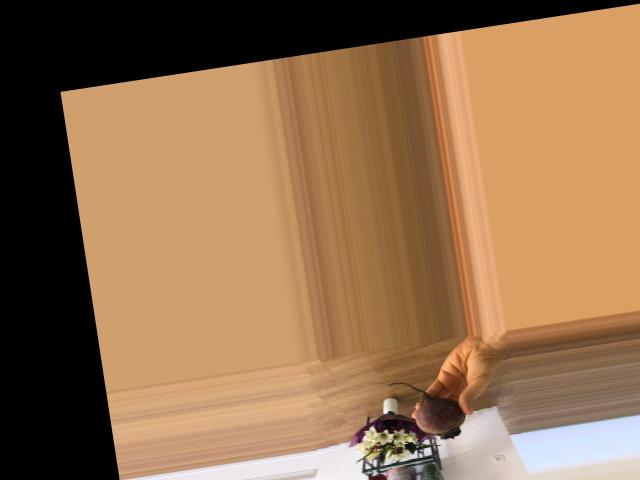beet: (386, 373, 468, 446)
